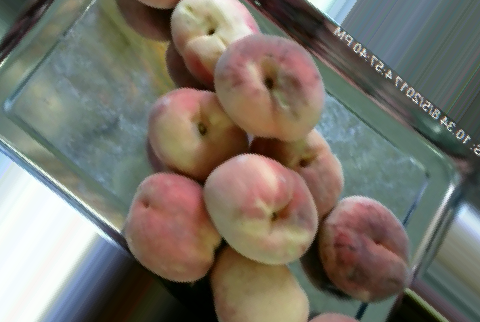Peach: (204, 155, 320, 267), (217, 37, 321, 145), (125, 171, 222, 283), (147, 85, 252, 180), (312, 196, 409, 297), (210, 250, 311, 322), (172, 0, 254, 87)
